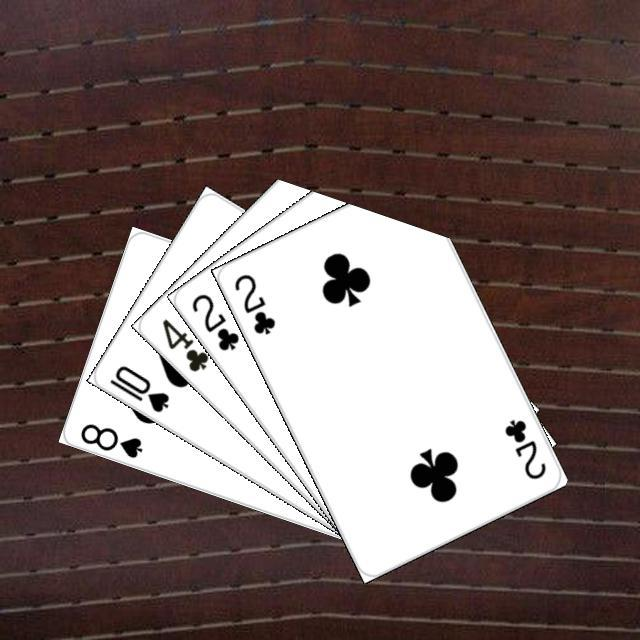10s: (104, 360, 171, 415)
2c: (186, 288, 241, 353), (229, 269, 278, 336), (499, 414, 548, 481)
4c: (157, 313, 211, 374)
8s: (75, 418, 144, 460)
